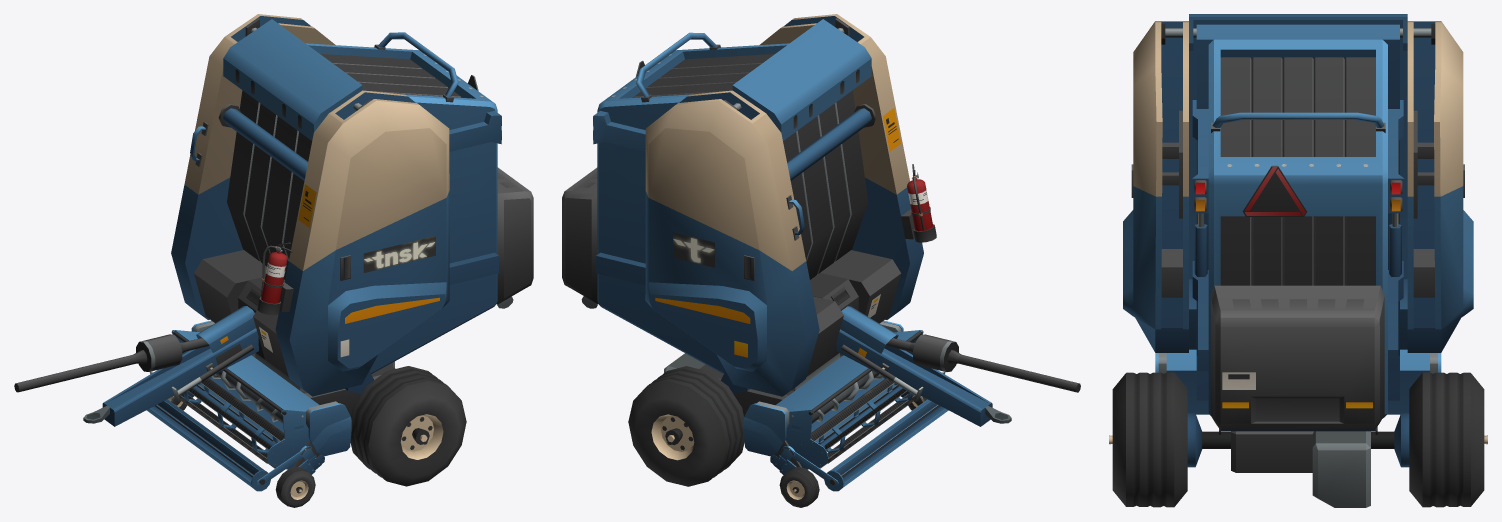
The model's file is TFP_Round_Baler_01B.fbx.
3 views of the same model, side by side, from view 1: azimuth 30°, elevation 25°; view 2: azimuth 150°, elevation 25°; view 3: azimuth 270°, elevation 25° (orthographic). The views are drawn at different scales.
Parts seen in each view (by area): view 1: TFP_Round_Baler_01B_LOD0, TFP_Round_Baler_01B_Tail_Gate_LOD0, TFP_Round_Baler_01B_Wheel_R.L_LOD0, TFP_Round_Baler_01B_Reel_LOD0, TFP_Round_Baler_01B_Roller_Baffle_LOD0, TFP_Round_Baler_01B_Wheel_F.L_LOD0, TFP_Round_Baler_01B_Extinguisher_LOD0, TFP_Round_Baler_01B_Auger_LOD0, TFP_Round_Baler_01B_Roller_Baffle_Arms_LOD0; view 2: TFP_Round_Baler_01B_LOD0, TFP_Round_Baler_01B_Tail_Gate_LOD0, TFP_Round_Baler_01B_Wheel_R.R_LOD0, TFP_Round_Baler_01B_Reel_LOD0, TFP_Round_Baler_01B_Roller_Baffle_LOD0, TFP_Round_Baler_01B_Wheel_F.R_LOD0, TFP_Round_Baler_01B_Extinguisher_LOD0, TFP_Round_Baler_01B_Auger_LOD0, TFP_Round_Baler_01B_Roller_Baffle_Arms_LOD0; view 3: TFP_Round_Baler_01B_Tail_Gate_LOD0, TFP_Round_Baler_01B_LOD0, TFP_Round_Baler_01B_Wheel_R.R_LOD0, TFP_Round_Baler_01B_Wheel_R.L_LOD0.
Boxes of the visible parts, bbox=[...] form: TFP_Round_Baler_01B_LOD0: bbox=[14, 14, 449, 474]; TFP_Round_Baler_01B_Tail_Gate_LOD0: bbox=[306, 32, 533, 393]; TFP_Round_Baler_01B_Wheel_R.L_LOD0: bbox=[350, 366, 466, 486]; TFP_Round_Baler_01B_Reel_LOD0: bbox=[174, 378, 293, 468]; TFP_Round_Baler_01B_Roller_Baffle_LOD0: bbox=[146, 399, 265, 487]; TFP_Round_Baler_01B_Wheel_F.L_LOD0: bbox=[275, 467, 315, 507]; TFP_Round_Baler_01B_Extinguisher_LOD0: bbox=[261, 242, 292, 303]; TFP_Round_Baler_01B_Auger_LOD0: bbox=[211, 370, 283, 423]; TFP_Round_Baler_01B_Roller_Baffle_Arms_LOD0: bbox=[251, 450, 302, 491]; TFP_Round_Baler_01B_LOD0: bbox=[645, 14, 1080, 474]; TFP_Round_Baler_01B_Tail_Gate_LOD0: bbox=[562, 32, 789, 394]; TFP_Round_Baler_01B_Wheel_R.R_LOD0: bbox=[628, 366, 744, 486]; TFP_Round_Baler_01B_Reel_LOD0: bbox=[801, 378, 920, 468]; TFP_Round_Baler_01B_Roller_Baffle_LOD0: bbox=[830, 399, 948, 487]; TFP_Round_Baler_01B_Wheel_F.R_LOD0: bbox=[779, 466, 819, 507]; TFP_Round_Baler_01B_Extinguisher_LOD0: bbox=[907, 164, 933, 231]; TFP_Round_Baler_01B_Auger_LOD0: bbox=[812, 370, 883, 423]; TFP_Round_Baler_01B_Roller_Baffle_Arms_LOD0: bbox=[792, 450, 843, 491]; TFP_Round_Baler_01B_Tail_Gate_LOD0: bbox=[1192, 24, 1404, 435]; TFP_Round_Baler_01B_LOD0: bbox=[1123, 14, 1473, 507]; TFP_Round_Baler_01B_Wheel_R.R_LOD0: bbox=[1409, 372, 1487, 507]; TFP_Round_Baler_01B_Wheel_R.L_LOD0: bbox=[1109, 372, 1187, 507].
Size of what is drawn, in the model's own units: 6.45 by 4.92 by 3.61.
